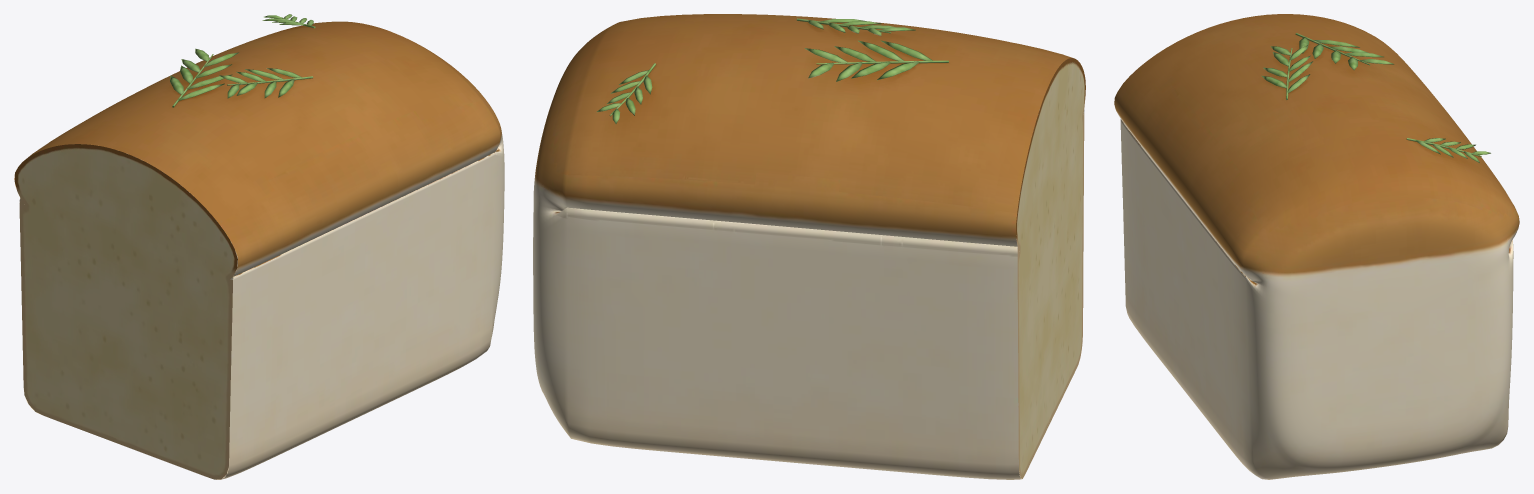
File: loaf--olive-oil.glb
The picture shows the model from 3 angles, left to right: view 1: azimuth 30°, elevation 25°; view 2: azimuth 150°, elevation 25°; view 3: azimuth 270°, elevation 25°; orthographic projection. The views are drawn at different scales.
Visible parts, largest first — view 1: loaf_olive-oil; view 2: loaf_olive-oil; view 3: loaf_olive-oil.
Part boxes in pixels (x1,y1,x2,y2): loaf_olive-oil: (14, 14, 504, 479); loaf_olive-oil: (533, 14, 1085, 479); loaf_olive-oil: (1114, 14, 1519, 479).
Size of the model in its own units: 1.02 by 0.7429 by 0.8447.
Materials: 1 (1 with a texture image).
